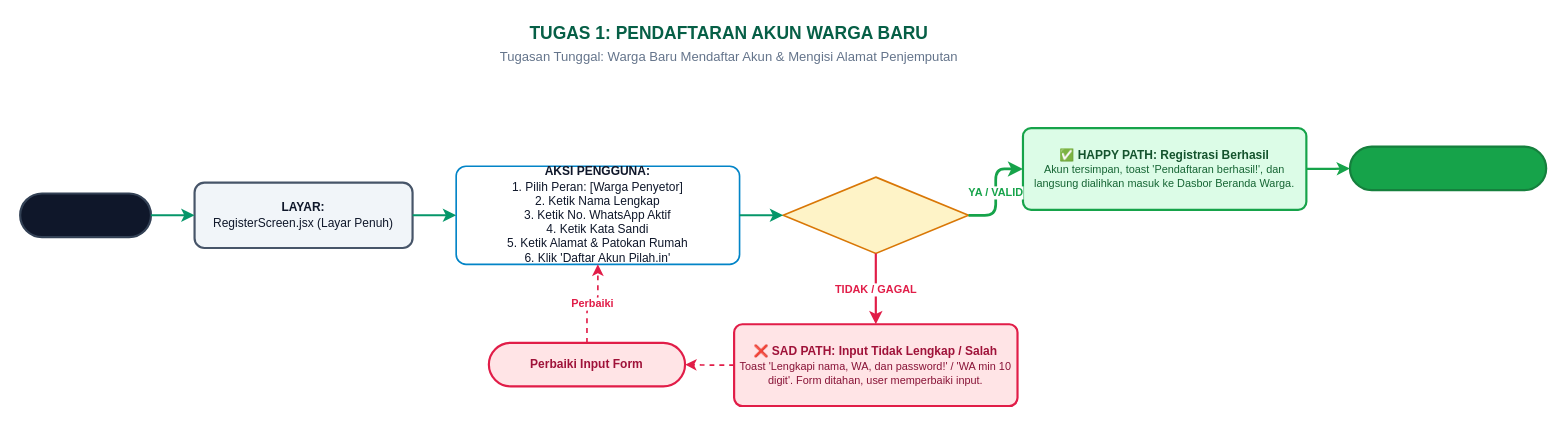
The diagram is 1565 pixels wide and 425 high, and some of its shapes have lost their labels. The shapes that lost their labels are listed below. From the top down, each one's centre as x and y in pixels, then its label:
At point (1447, 168): "Dasbor Beranda Warga".
At point (85, 215): "MULAI TUGAS".
At point (875, 215): "Data Lengkap & No WA >= 10 Digit & Pass >= 6 Char?".
